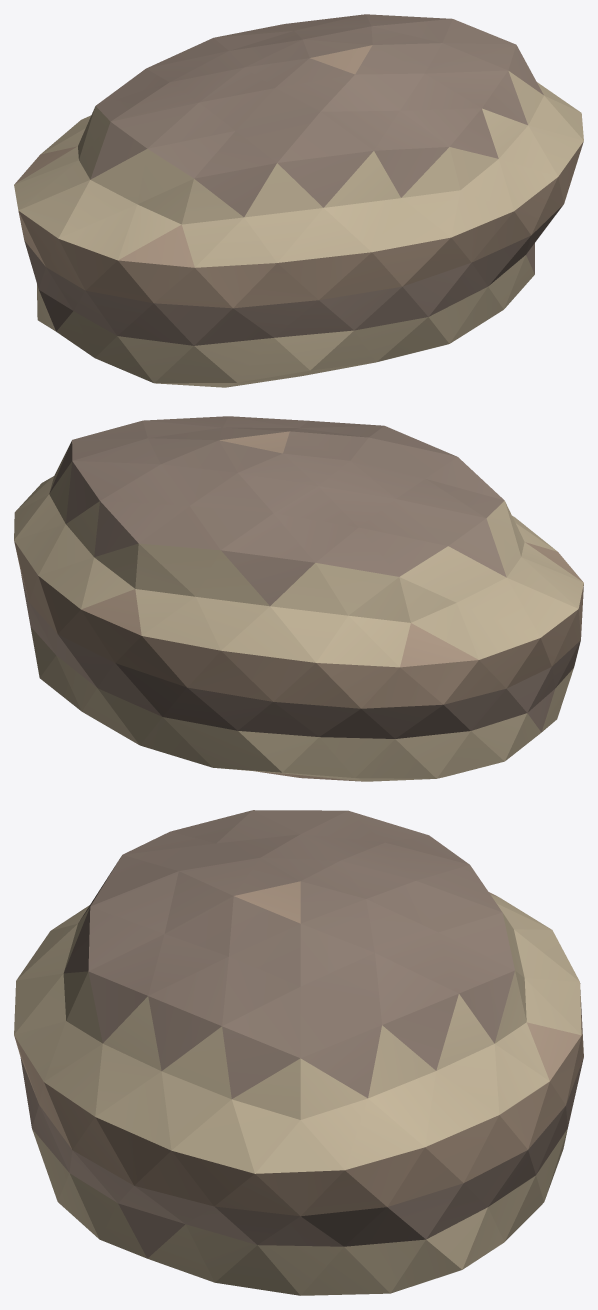
The model's file is boulder_layered.glb.
3 renders of one model, top to bottom at view 1: azimuth 30°, elevation 25°; view 2: azimuth 150°, elevation 25°; view 3: azimuth 270°, elevation 25°, orthographic. The views are drawn at different scales.
Visible parts, largest first — view 1: boulder_layered; view 2: boulder_layered; view 3: boulder_layered.
Part boxes in pixels (left/top/right/bottom): boulder_layered: left=14, top=14, right=583, bottom=387; boulder_layered: left=14, top=416, right=583, bottom=781; boulder_layered: left=14, top=810, right=583, bottom=1295.
Bounding box in the file's own units: 6.61 × 3.1 × 4.83.
